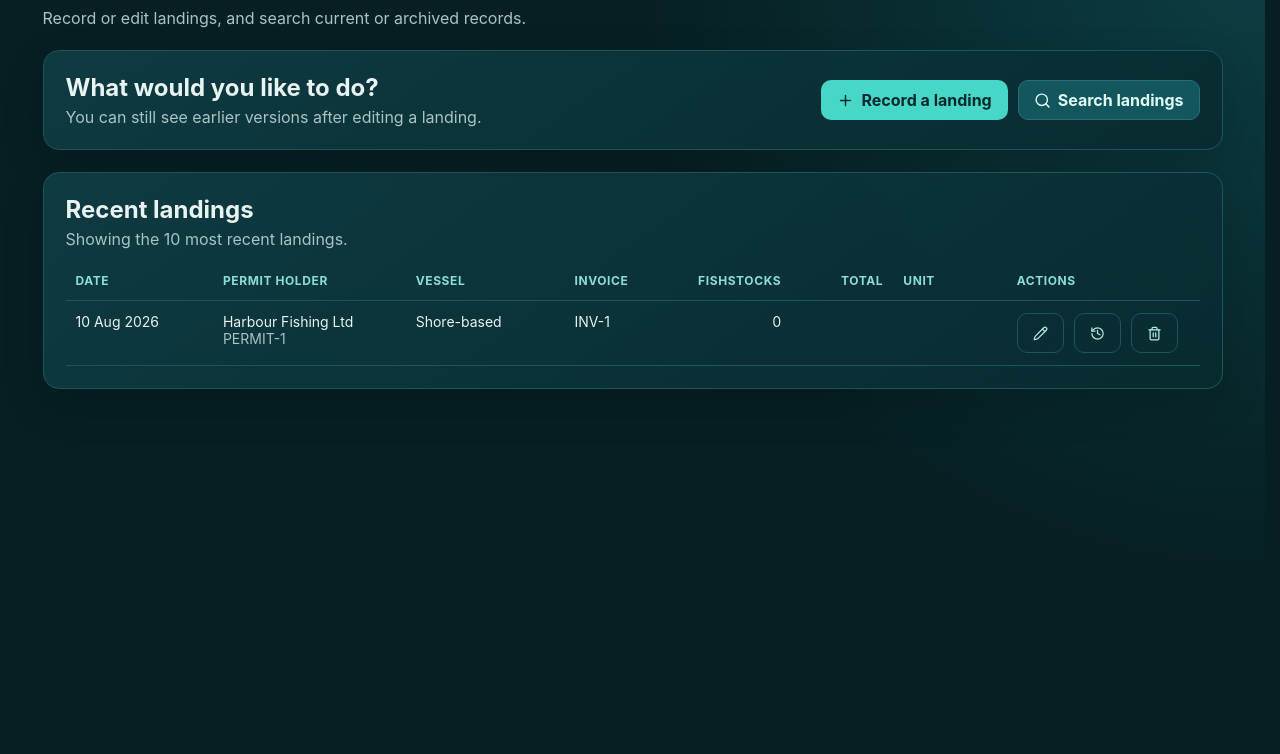
landing fishstock entry › lists deleted landings in the same columns as current landings and opens their details
Click the button "Search landings". click: (1109, 100)
box: [1018,80,1200,120]
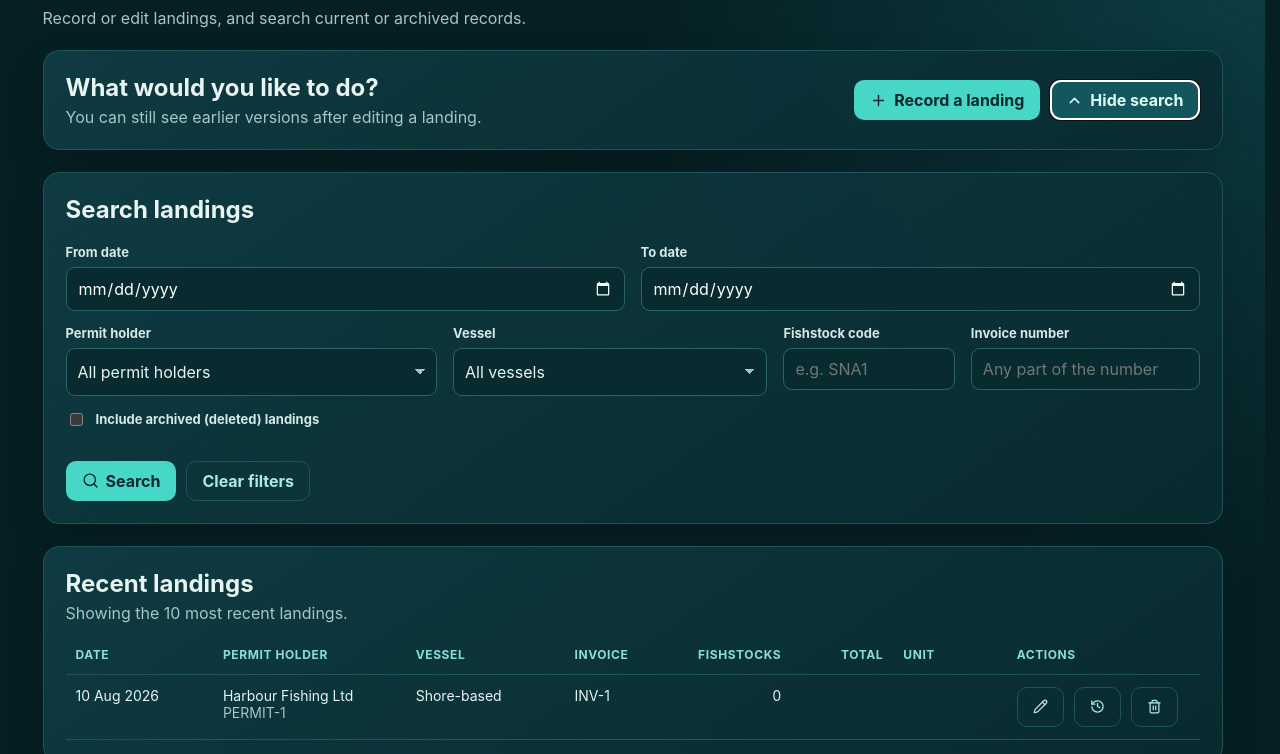
Click the checkbox labelled "Include archived (deleted) landings". click: (76, 419)
box: [70,413,82,426]
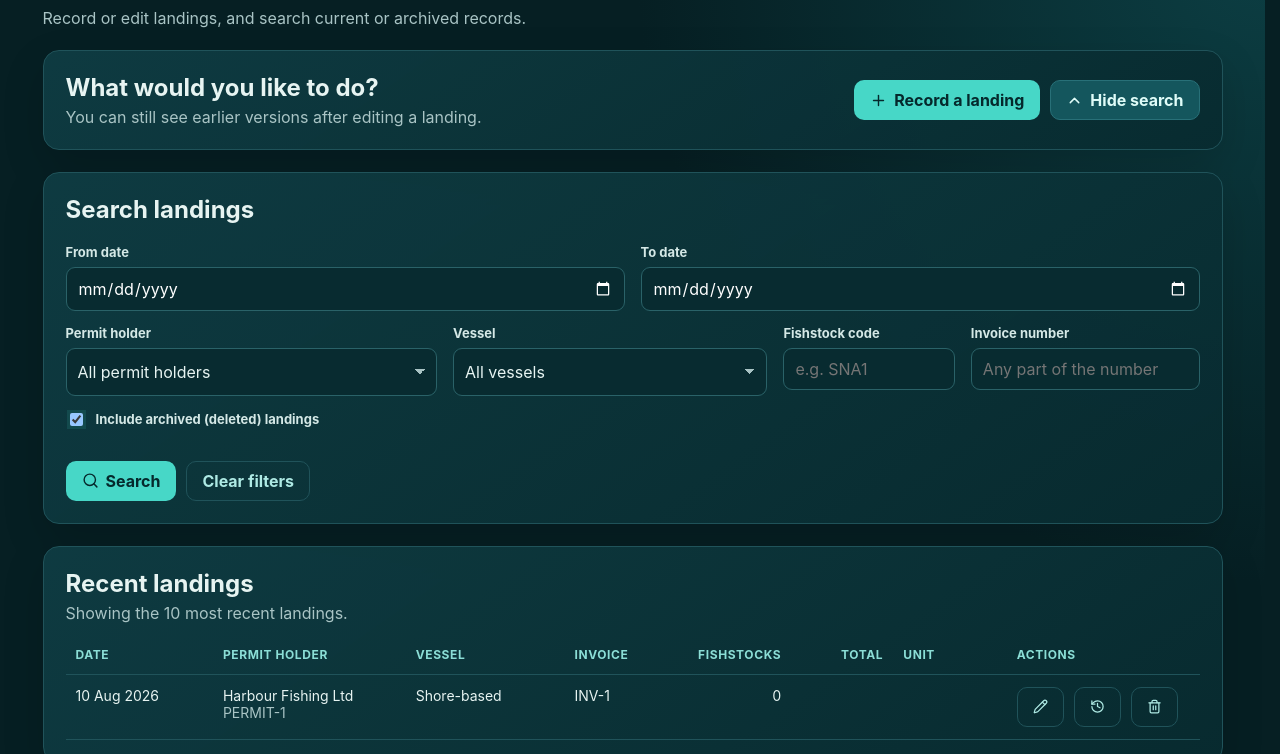
Click the button "Search". click: (121, 481)
box: [66,461,176,501]
(page scrolled)
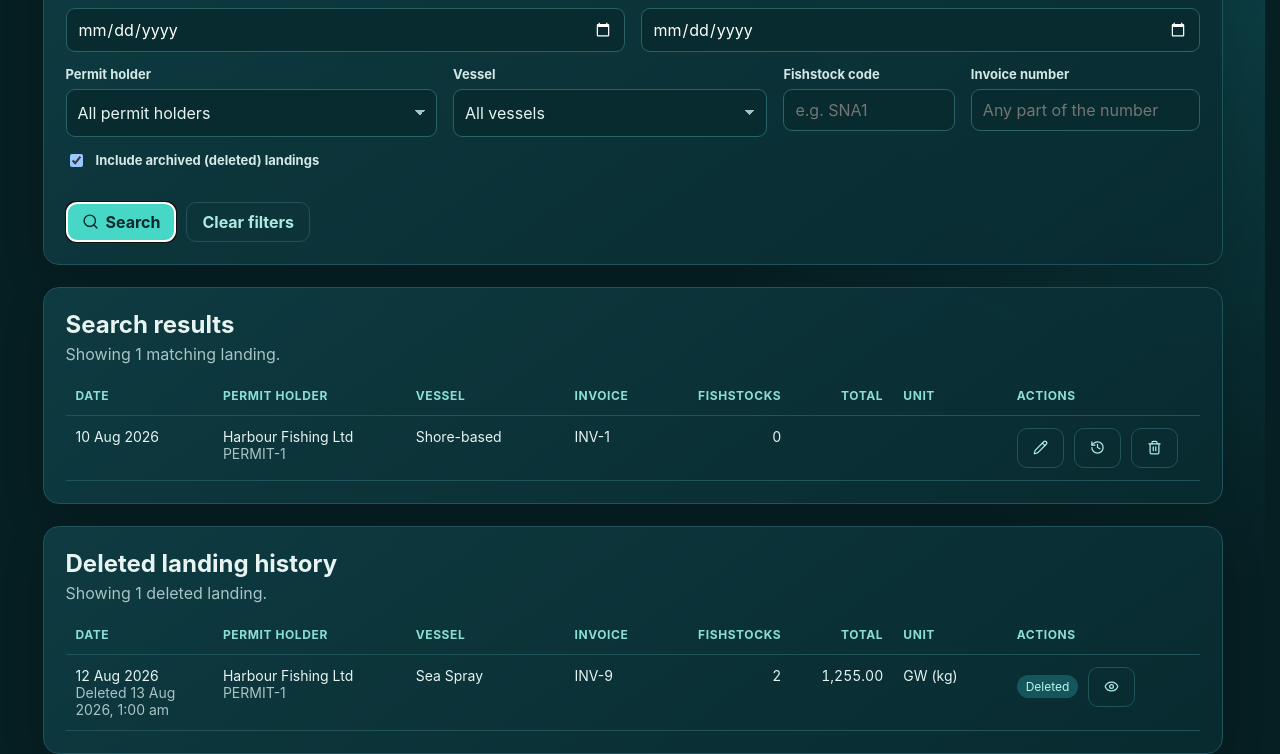
Now the text "Showing 1 deleted landing." is shown, box [66,583,267,603]
Now the text "Sea Spray" is shown, box [406,654,564,730]
Now the text "INV-9" is shown, box [564,654,678,730]
Click the button named "View details". click: (1112, 687)
box: [1088,667,1135,707]
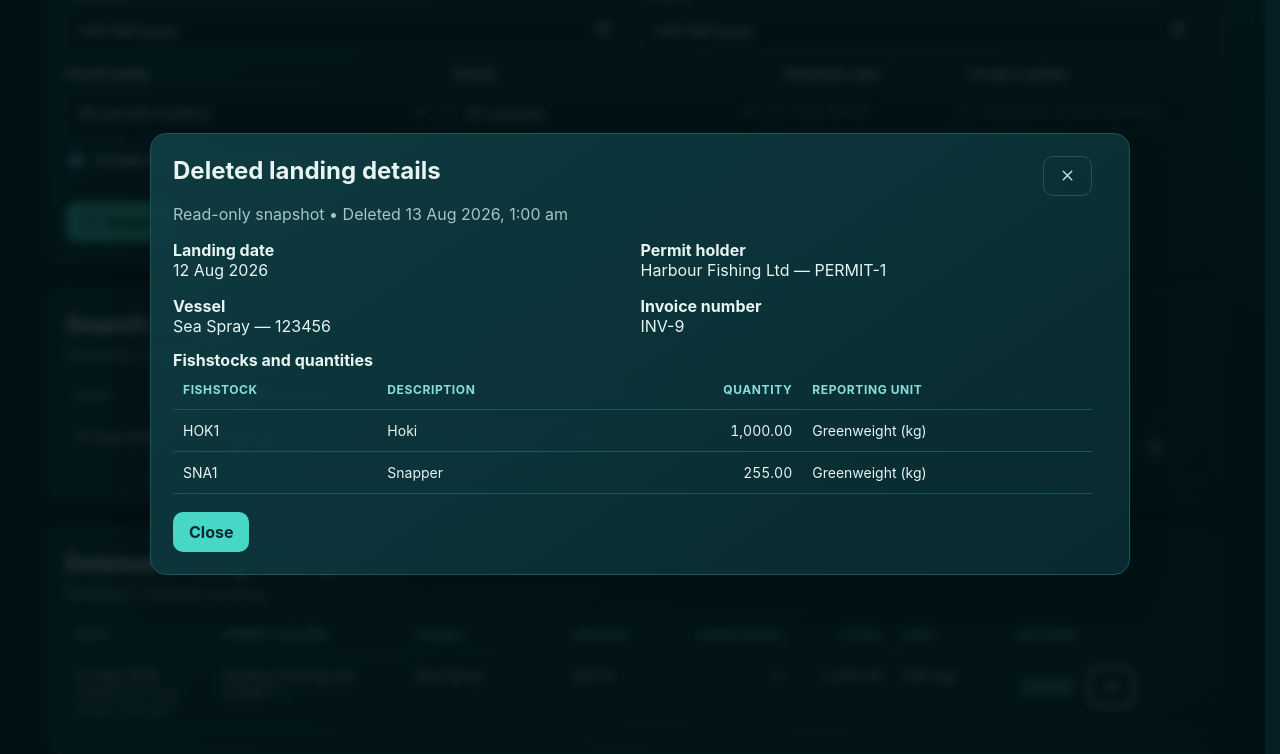
Now the dialog "Deleted landing details" is shown, box [150,132,1130,575]
